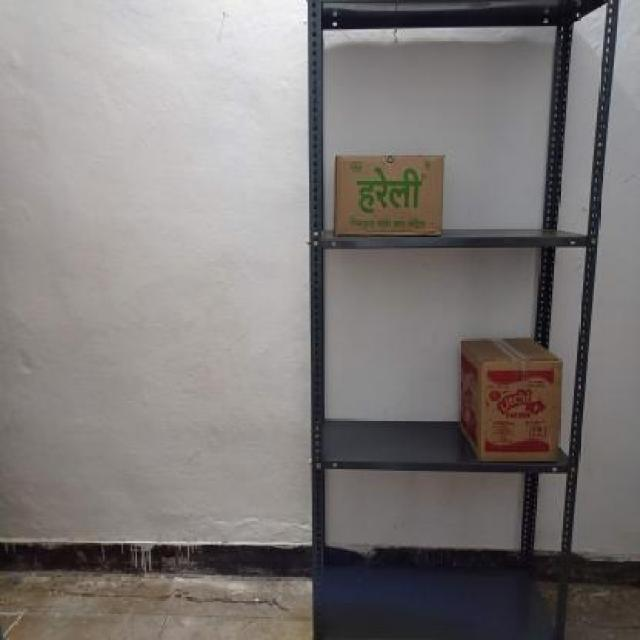box: (479, 360, 561, 466), (334, 157, 442, 234)
